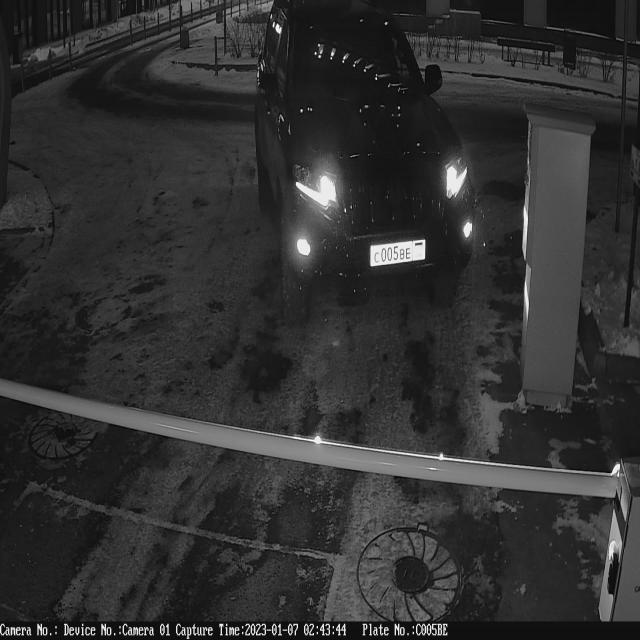car-plate-numbers: (368, 238, 430, 279)
